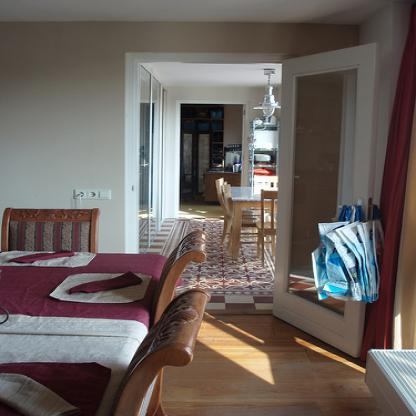chair: (116, 290, 211, 415), (152, 228, 209, 325), (0, 208, 100, 252), (222, 183, 266, 264), (215, 177, 261, 245), (260, 189, 278, 269), (250, 173, 280, 186)
diningtable: (0, 251, 170, 415), (224, 186, 277, 264)
